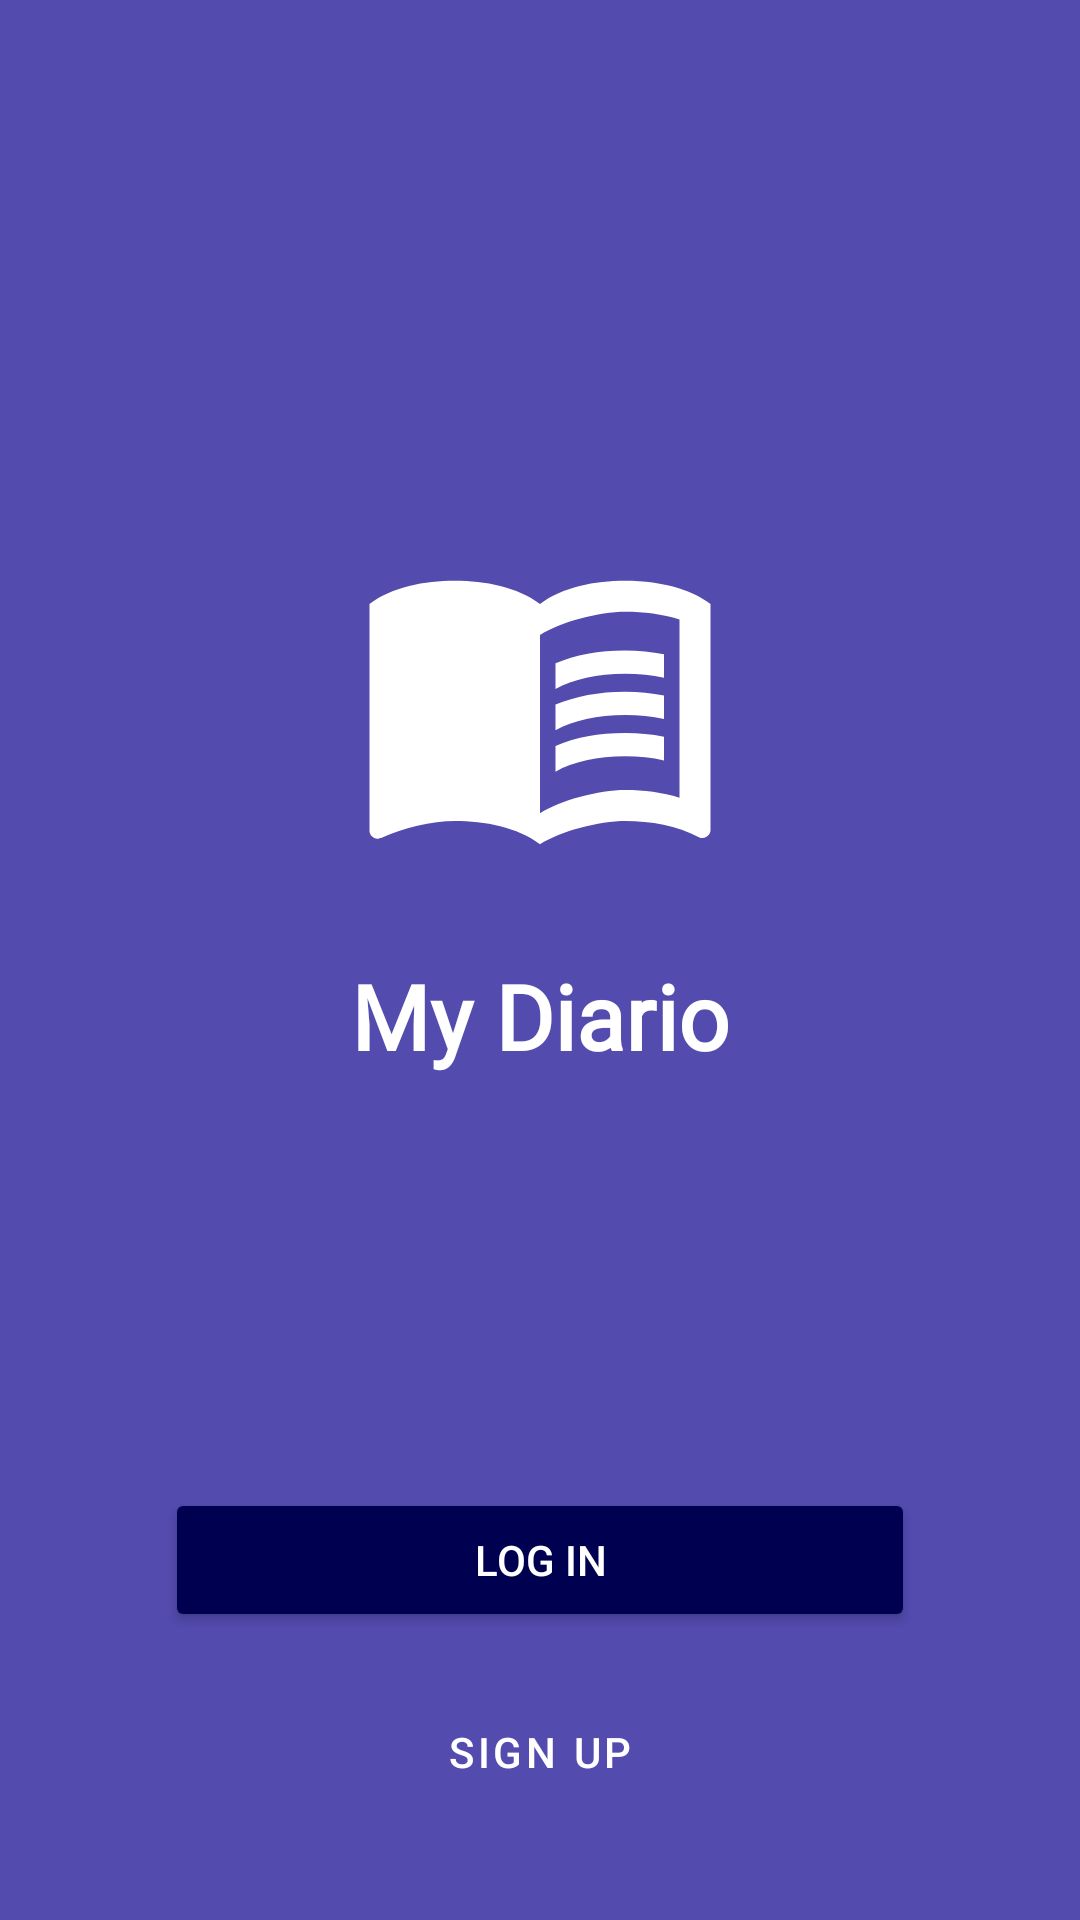

Screen size 1080 × 1920. Icon name, then its box in pixels as box=[x1, y1, x2, y2]:
book: box=[369, 580, 711, 844]
